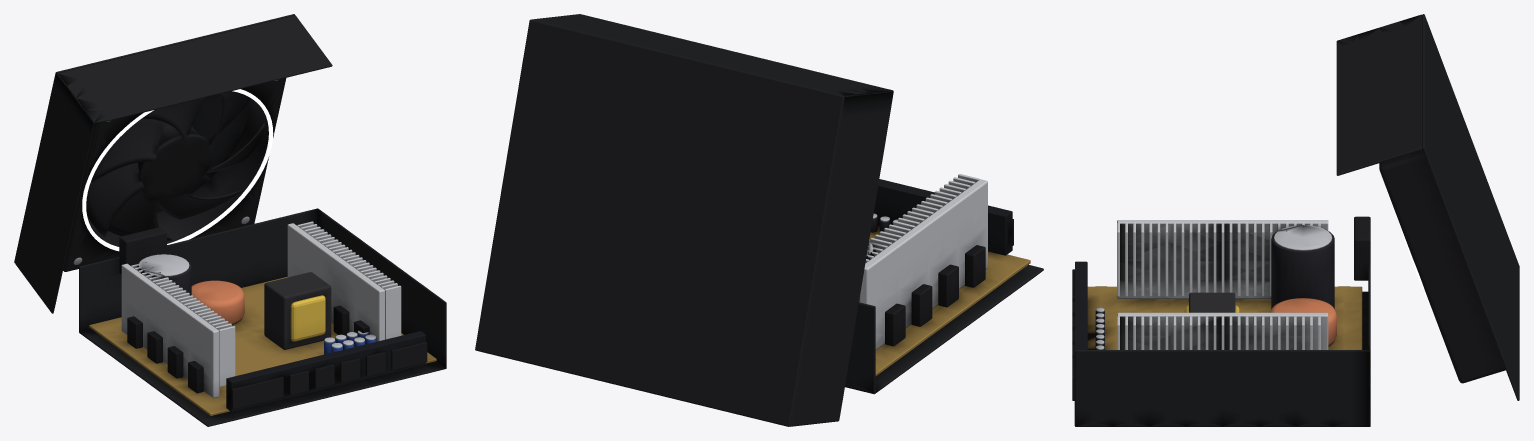
Rendered from psu_open.glb.
3 renders of one model, left to right at view 1: azimuth 30°, elevation 25°; view 2: azimuth 150°, elevation 25°; view 3: azimuth 270°, elevation 25°, orthographic. The views are drawn at different scales.
Visible parts, largest first — view 1: X_psu_open, X_L_lid; view 2: X_L_lid, X_psu_open; view 3: X_psu_open, X_L_lid.
Boxes of the visible parts, box(x1,y1,x2,y2) form: X_psu_open: box(79, 208, 446, 426); X_L_lid: box(14, 14, 332, 313); X_L_lid: box(475, 14, 893, 426); X_psu_open: box(845, 174, 1043, 394); X_psu_open: box(1072, 216, 1370, 426); X_L_lid: box(1336, 14, 1519, 400).
Size of the model in its own units: 0.15 by 0.1464 by 0.2117.
